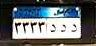3: (38, 21, 46, 33), (14, 22, 22, 34), (23, 21, 29, 33), (31, 22, 37, 33)
daal: (59, 24, 68, 32), (71, 24, 78, 33), (50, 24, 57, 32)
